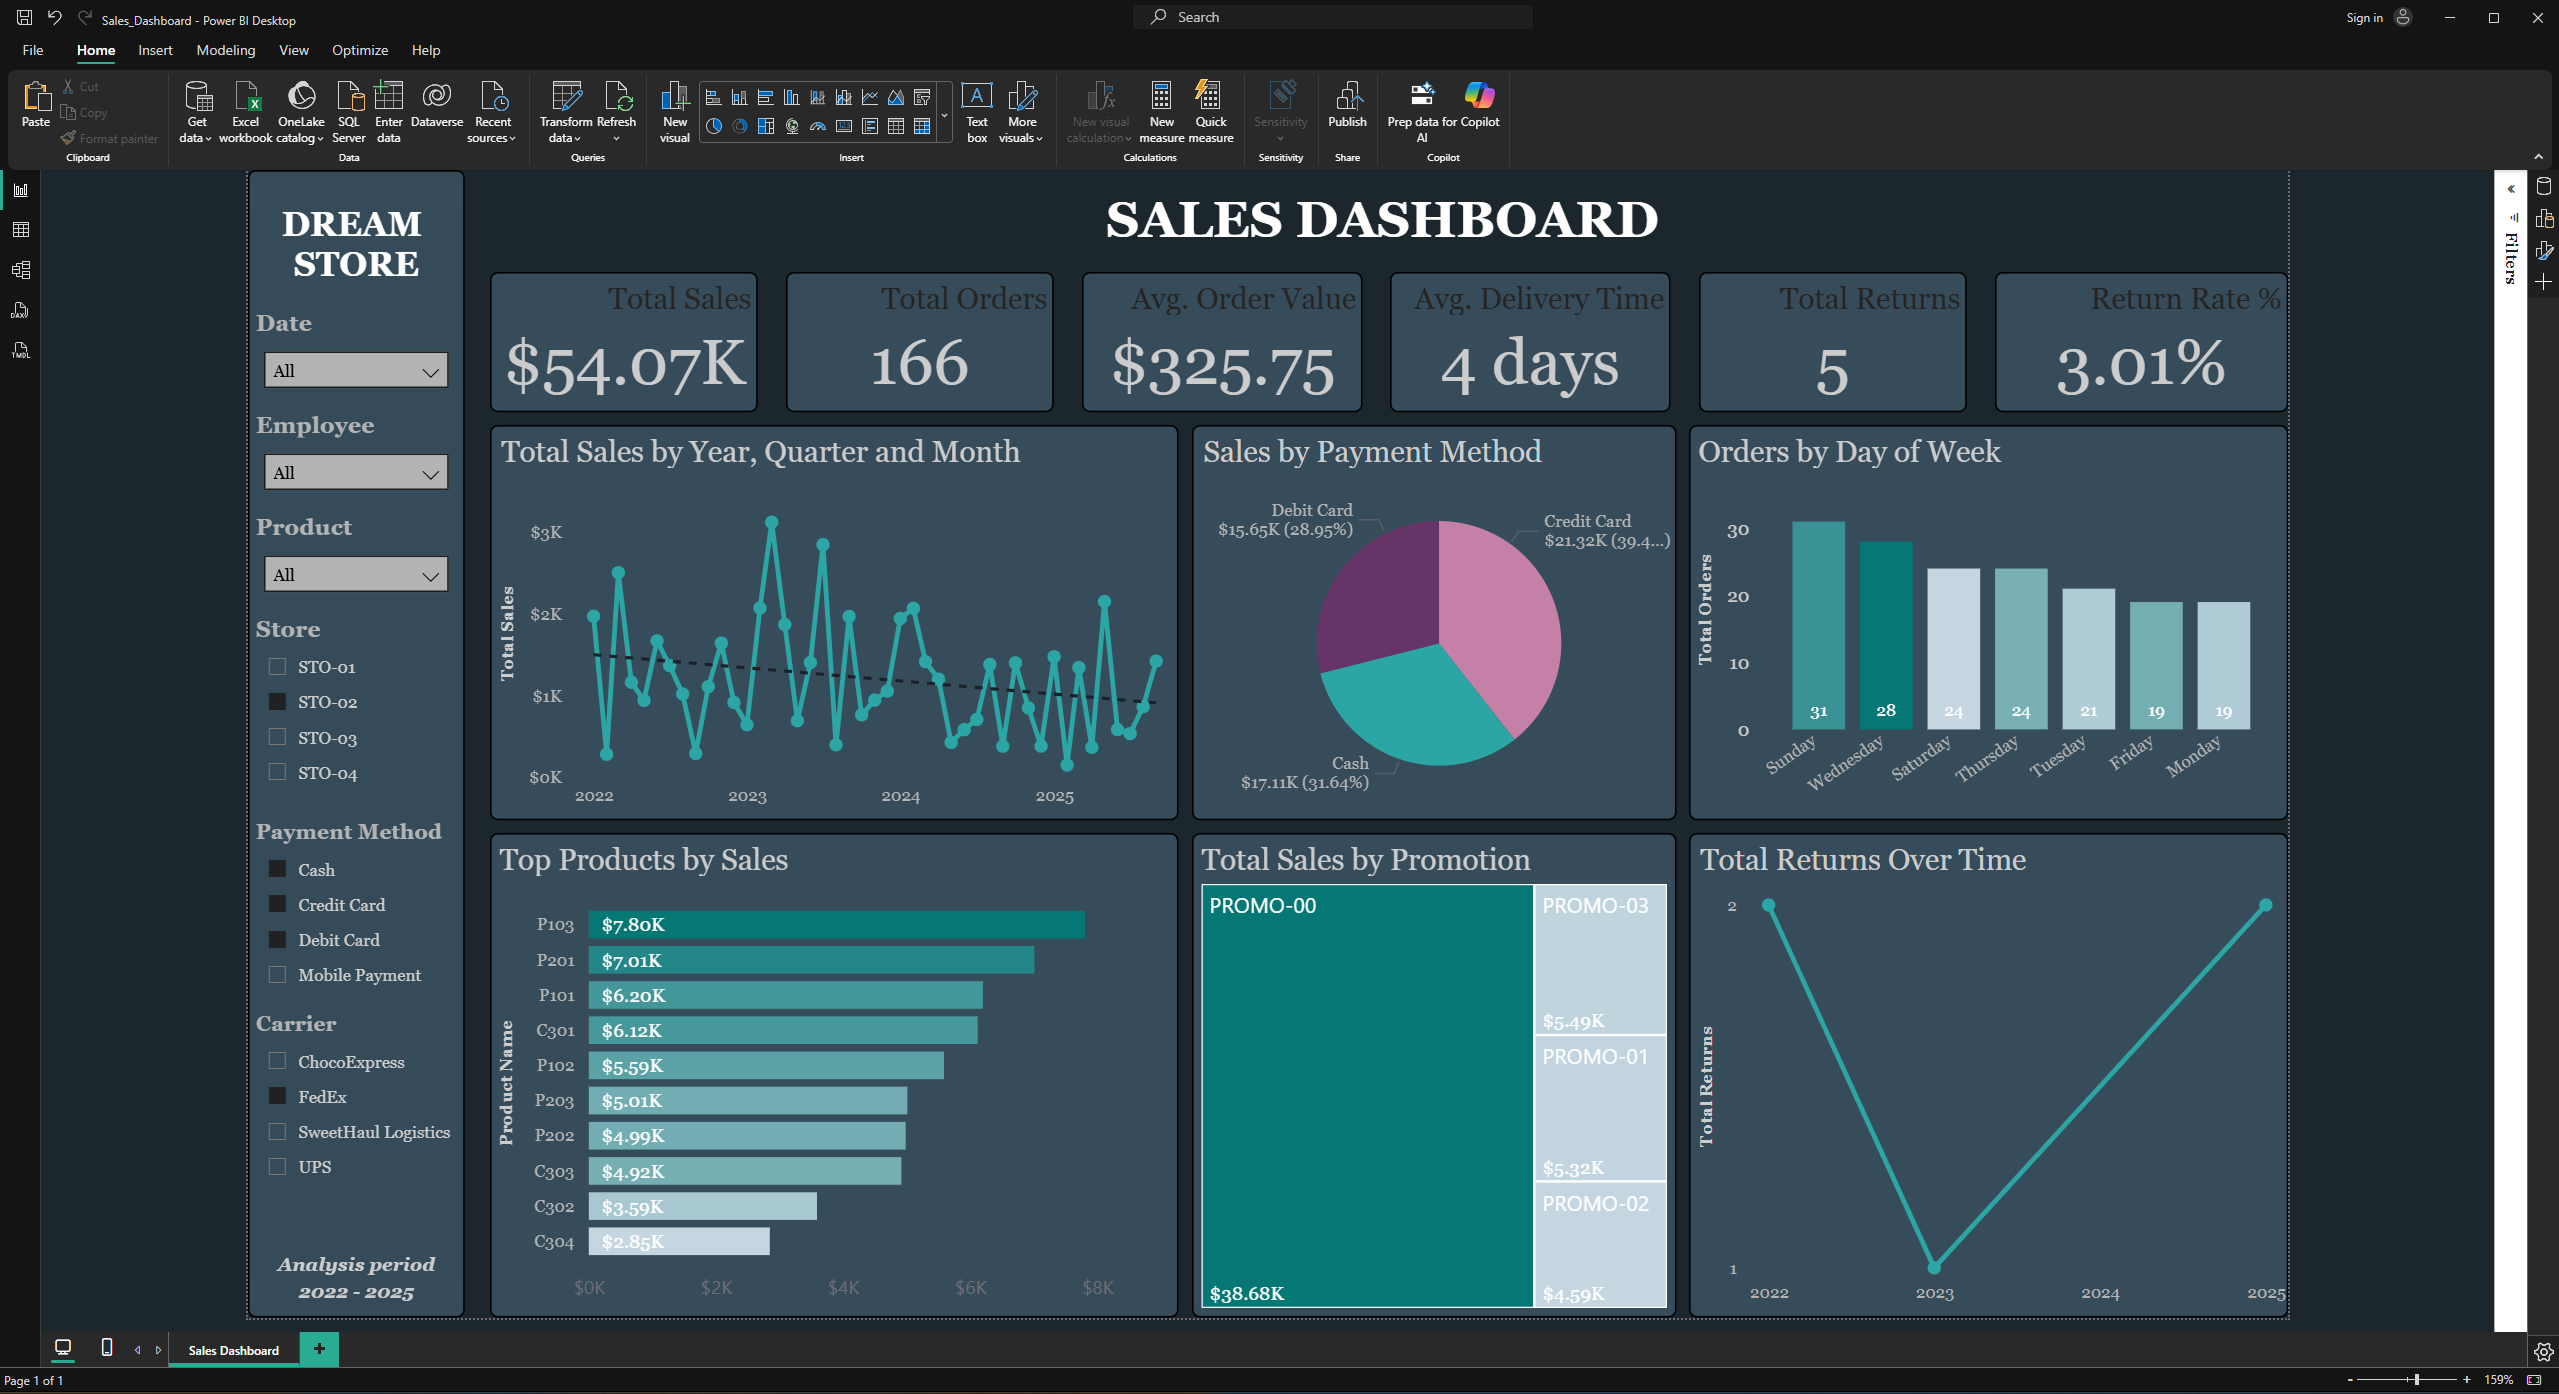

This screenshot's page, from the dashboard's own definition file:
{"tool":"powerbi","page":{"name":"Sales Dashboard","canvas":[1280,720],"ordinal":0},"visuals":[{"type":"shape","box":[0,0,136,720],"z":0},{"type":"lineChart","fields":{"Y":["order_lines.Total Sales"],"Category":["sales_transactions.date.Variation.Date Hierarchy.Year","sales_transactions.date.Variation.Date Hierarchy.Quarter","sales_transactions.date.Variation.Date Hierarchy.Month"]},"box":[152,160,432,248],"z":1000},{"type":"textbox","box":[152,8,1120,48],"z":2000},{"type":"slicer","title":"Employee","fields":{"Values":["sales_transactions.employee_id"]},"box":[0,152,136,64],"z":3000},{"type":"card","title":"Total Sales","fields":{"Values":["order_lines.Total Sales"]},"box":[152,64,168,88],"z":4000},{"type":"textbox","box":[0,16,136,64],"z":5000},{"type":"slicer","title":"Product","fields":{"Values":["order_lines.product_id"]},"box":[0,216,136,64],"z":6000},{"type":"slicer","title":"Date","fields":{"Values":["sales_transactions.date.Variation.Date Hierarchy.Year","sales_transactions.date.Variation.Date Hierarchy.Quarter","sales_transactions.date.Variation.Date Hierarchy.Month","sales_transactions.date.Variation.Date Hierarchy.Day","sales_transactions.date.Variation.Date Hierarchy.Year","sales_transactions.date.Variation.Date Hierarchy.Month"]},"box":[0,88,136,64],"z":7000},{"type":"card","title":"Total Orders","fields":{"Values":["order_lines.Total Orders"]},"box":[337.6,64,168,88],"z":8000},{"type":"card","title":"Total Returns","fields":{"Values":["order_lines.Total Returns"]},"box":[910.4,64,168,88],"z":9000},{"type":"card","title":"Avg. Order Value","fields":{"Values":["order_lines.Average Order Value"]},"box":[523.2,64,176,88],"z":10000},{"type":"card","title":"Avg. Delivery Time","fields":{"Values":["order_lines.Average Delivery Time"]},"box":[716.8,64,176,88],"z":11000},{"type":"card","title":"Return Rate %","fields":{"Values":["order_lines.Sales YoY Growth %"]},"box":[1096,64,184,88],"z":12000},{"type":"barChart","title":"Top Products by Sales","fields":{"Category":["order_lines.product_id"],"Y":["Sum(order_lines.line_total)"]},"box":[152,416,432,304],"z":13000},{"type":"slicer","title":"Store","fields":{"Values":["sales_transactions.store_id"]},"box":[0,280,136,120],"z":14000},{"type":"slicer","title":"Payment Method","fields":{"Values":["sales_transactions.payment_method"]},"box":[0,408,136,120],"z":15000},{"type":"pieChart","title":"Sales by Payment Method","fields":{"Category":["sales_transactions.payment_method"],"Y":["Sum(sales_transactions.total_amount)"]},"box":[592,160,304,248],"z":16000},{"type":"columnChart","title":"Orders by Day of Week","fields":{"Y":["order_lines.Total Orders"],"Category":["sales_transactions.Day of Week"]},"box":[904,160,376,248],"z":17000},{"type":"treemap","title":"Total Sales by Promotion","fields":{"Group":["sales_transactions.promotion_id"],"Values":["Sum(sales_transactions.total_amount)"]},"box":[592,416,304,304],"z":18000},{"type":"lineChart","title":"Total Returns Over Time","fields":{"Y":["CountNonNull(returns_log.return_id)"],"Category":["sales_transactions.date.Variation.Date Hierarchy.Year"]},"box":[904,416,376,304],"z":19000},{"type":"textbox","box":[0,672,136,48],"z":20000},{"type":"slicer","title":"Carrier","fields":{"Values":["shipping_details.carrier"]},"box":[0,528,136,120],"z":21000}]}

Visuals, with their boxes on the page's 1280x720 design canvas (x1, y1, x2, y2). These are canvas units, not pixel positions in the 2559x1394 screenshot, which may show the page scaled, cropped or inside an application window:
shape: select_region(0, 0, 136, 720)
lineChart - order_lines.Total Sales x sales_transactions.date.Variation.Date Hierarchy.Year: select_region(152, 160, 584, 408)
textbox: select_region(152, 8, 1272, 56)
"Employee" slicer: select_region(0, 152, 136, 216)
"Total Sales" card: select_region(152, 64, 320, 152)
textbox: select_region(0, 16, 136, 80)
"Product" slicer: select_region(0, 216, 136, 280)
"Date" slicer: select_region(0, 88, 136, 152)
"Total Orders" card: select_region(338, 64, 506, 152)
"Total Returns" card: select_region(910, 64, 1078, 152)
"Avg. Order Value" card: select_region(523, 64, 699, 152)
"Avg. Delivery Time" card: select_region(717, 64, 893, 152)
"Return Rate %" card: select_region(1096, 64, 1280, 152)
"Top Products by Sales" barChart: select_region(152, 416, 584, 720)
"Store" slicer: select_region(0, 280, 136, 400)
"Payment Method" slicer: select_region(0, 408, 136, 528)
"Sales by Payment Method" pieChart: select_region(592, 160, 896, 408)
"Orders by Day of Week" columnChart: select_region(904, 160, 1280, 408)
"Total Sales by Promotion" treemap: select_region(592, 416, 896, 720)
"Total Returns Over Time" lineChart: select_region(904, 416, 1280, 720)
textbox: select_region(0, 672, 136, 720)
"Carrier" slicer: select_region(0, 528, 136, 648)
